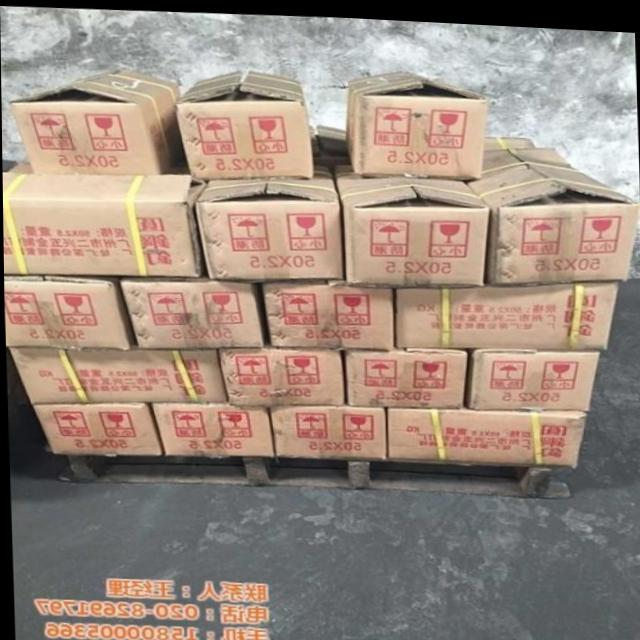box: (314, 122, 489, 283), (462, 131, 638, 278), (2, 150, 200, 275), (193, 122, 341, 278), (8, 69, 183, 173), (393, 275, 617, 345), (175, 68, 314, 176), (344, 68, 485, 173), (118, 258, 263, 348), (7, 346, 226, 403), (386, 401, 584, 460), (3, 273, 135, 350), (262, 274, 396, 345), (465, 344, 600, 407), (214, 346, 346, 402), (341, 345, 467, 403), (30, 401, 164, 455), (268, 400, 387, 459), (151, 400, 274, 455)
